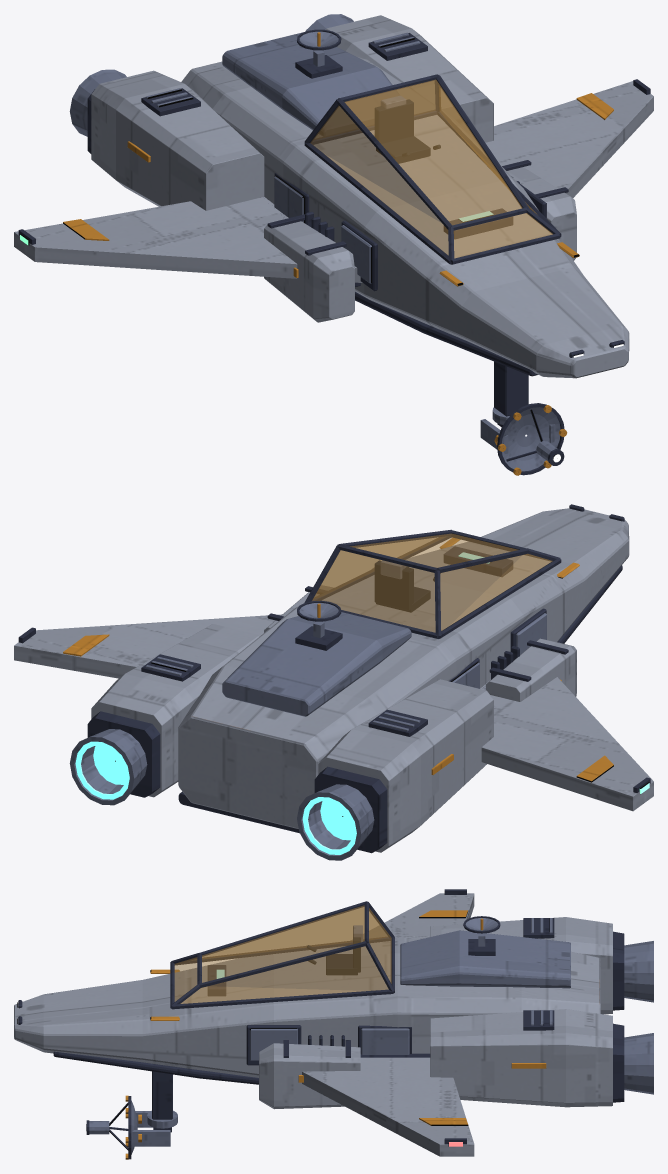
Rendered from player_ship.glb.
3 renders of one model, top to bottom at view 1: azimuth 30°, elevation 25°; view 2: azimuth 150°, elevation 25°; view 3: azimuth 270°, elevation 25°, orthographic. The views are drawn at different scales.
Visible parts, largest first — view 1: hull, wings_delta, engine_nacelle_1, canopy, cargo_pod_1, cockpit_frame, hull_trim, mining_dish, cockpit, engine_core, scanner_dish_1; view 2: hull, engine_nacelle_1, wings_delta, canopy, engine_core, cockpit_frame, cargo_pod_1, emissive, cockpit, hull_trim, scanner_dish_1; view 3: hull, engine_nacelle_1, canopy, wings_delta, cockpit_frame, engine_core, cargo_pod_1, hull_trim, cockpit, scanner_dish_1, dish_yoke, mining_dish.
Part boxes in pixels (x1,y1,x2,y2): hull: (181,32,629,378); wings_delta: (14,79,653,282); engine_nacelle_1: (91,15,493,210); canopy: (310,79,552,258); cargo_pod_1: (264,160,576,322); cockpit_frame: (304,74,561,264); hull_trim: (274,173,624,416); mining_dish: (497,403,567,475); cockpit: (374,95,513,239); engine_core: (69,14,353,153); scanner_dish_1: (295,29,342,78); hull: (178,508,629,828); engine_nacelle_1: (91,624,493,852); wings_delta: (14,614,653,811); canopy: (312,533,552,632); engine_core: (69,711,387,860); cockpit_frame: (304,529,561,638); cargo_pod_1: (264,585,576,701); emissive: (75,552,491,854); cockpit: (374,546,513,612); hull_trim: (178,504,624,833); scanner_dish_1: (295,600,342,650); hull: (14,930,600,1077); engine_nacelle_1: (430,917,612,1107); canopy: (174,905,391,1003); wings_delta: (302,889,474,1156); cockpit_frame: (170,901,394,1009); engine_core: (613,931,653,1102); cargo_pod_1: (259,1040,360,1109); hull_trim: (18,969,430,1119); cockpit: (207,925,362,996); scanner_dish_1: (463,916,500,955); dish_yoke: (132,1111,171,1146); mining_dish: (109,1095,137,1159).
Size of the model in its own units: 24.08 by 10.58 by 25.85.
Materials: 4 (4 with a texture image).
